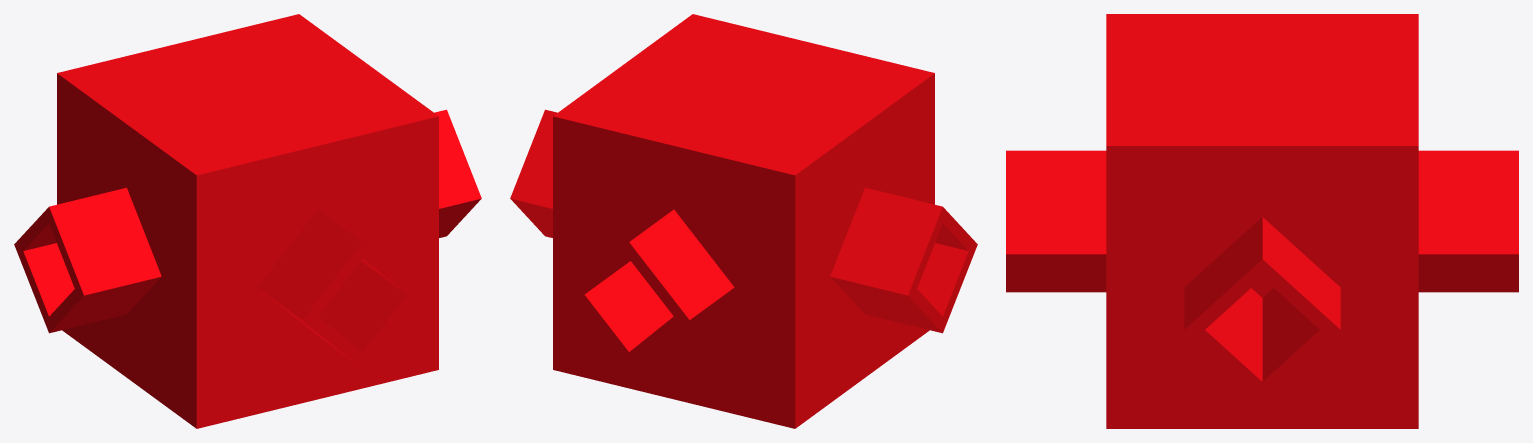
Rendered from LongRangeRowling.fbx.
3 renders of one model, left to right at view 1: azimuth 30°, elevation 25°; view 2: azimuth 150°, elevation 25°; view 3: azimuth 270°, elevation 25°, orthographic. The views are drawn at different scales.
Visible parts, largest first — view 1: pCube8; view 2: pCube8; view 3: pCube8.
Part boxes in pixels (bbox=[...]): pCube8: bbox=[14, 14, 481, 428]; pCube8: bbox=[510, 14, 977, 428]; pCube8: bbox=[1006, 14, 1518, 428].
Bounding box in the file's own units: 1.64 × 1 × 1.64.
Materials: 1 (1 with a texture image).
